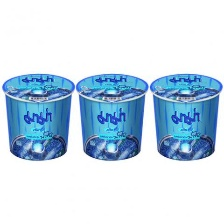paper_cup: (146, 68, 224, 164), (0, 68, 78, 164), (72, 69, 150, 164)
